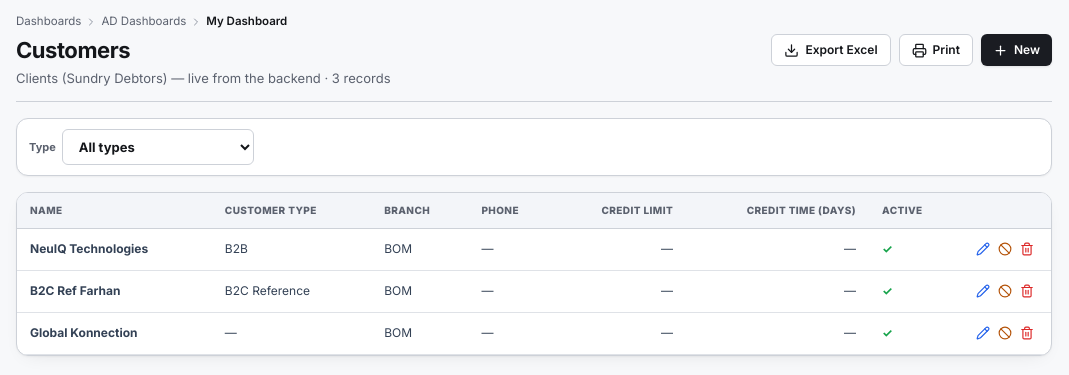
Customers master — Client Type filter › a filter that hides every row says WHY it is empty — not a bare "no customers"
The width and height of the screenshot is (1069, 375).
Select "B2E" in the dropdown at (158, 147), box left=62, top=129, right=254, bottom=165
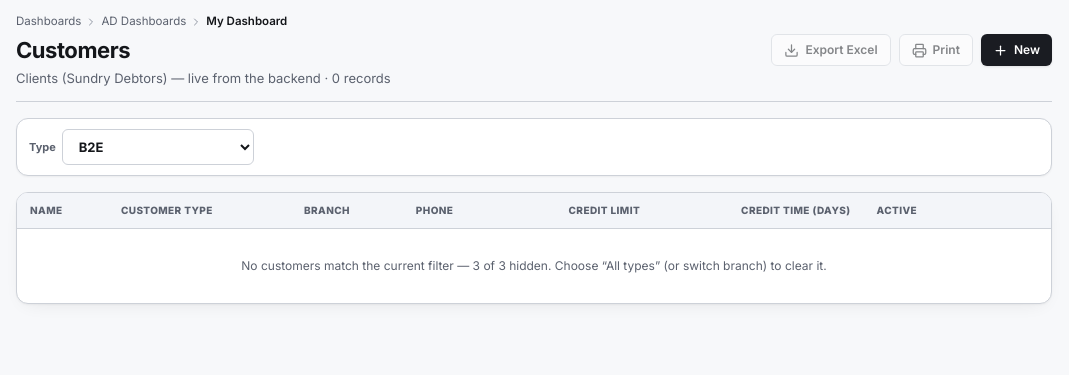
Check: the text "Choose .All types." is shown, box left=241, top=258, right=827, bottom=273
